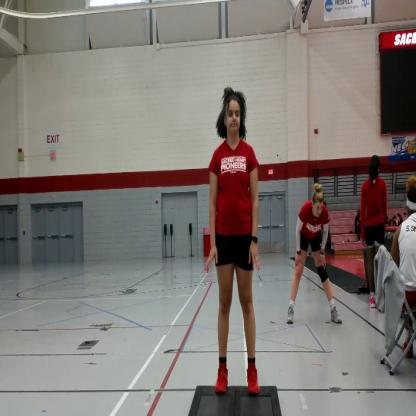lateral_flexion_normal: (197, 74, 272, 406)
stance_width_normal: (202, 130, 267, 399)
